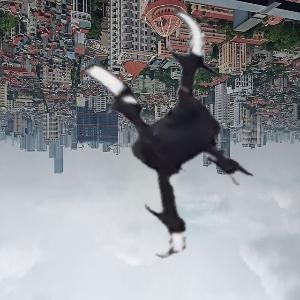drone: (31, 3, 283, 255)
